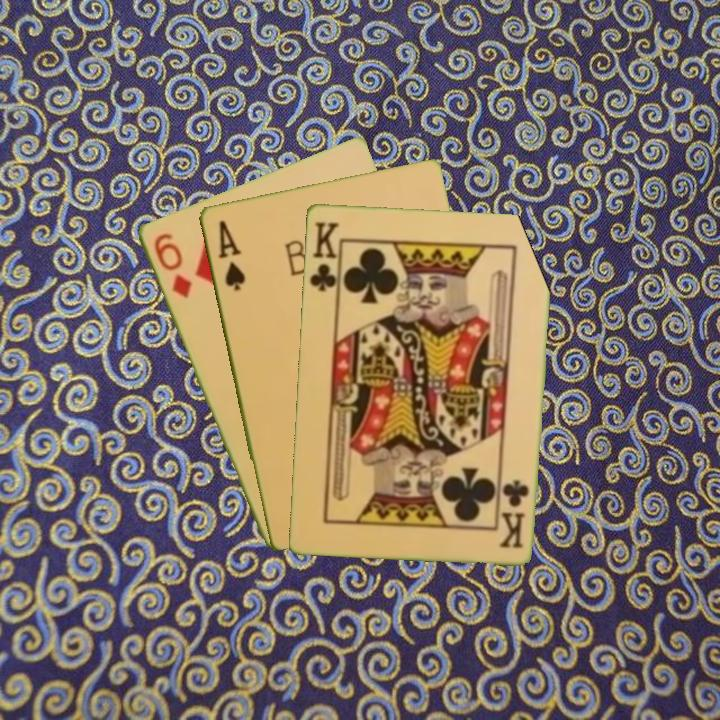6d: (149, 229, 194, 301)
As: (214, 216, 248, 293)
Kc: (305, 218, 343, 298), (497, 476, 531, 551)
